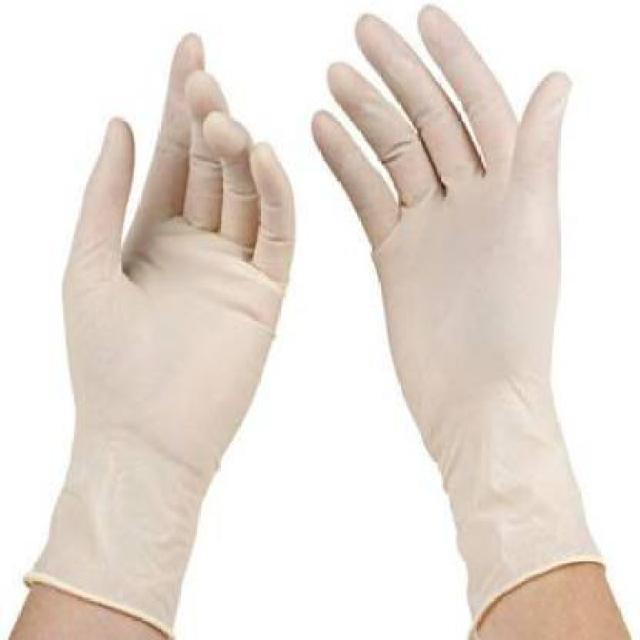glove_hand: (23, 0, 639, 562), (638, 562, 640, 578)
